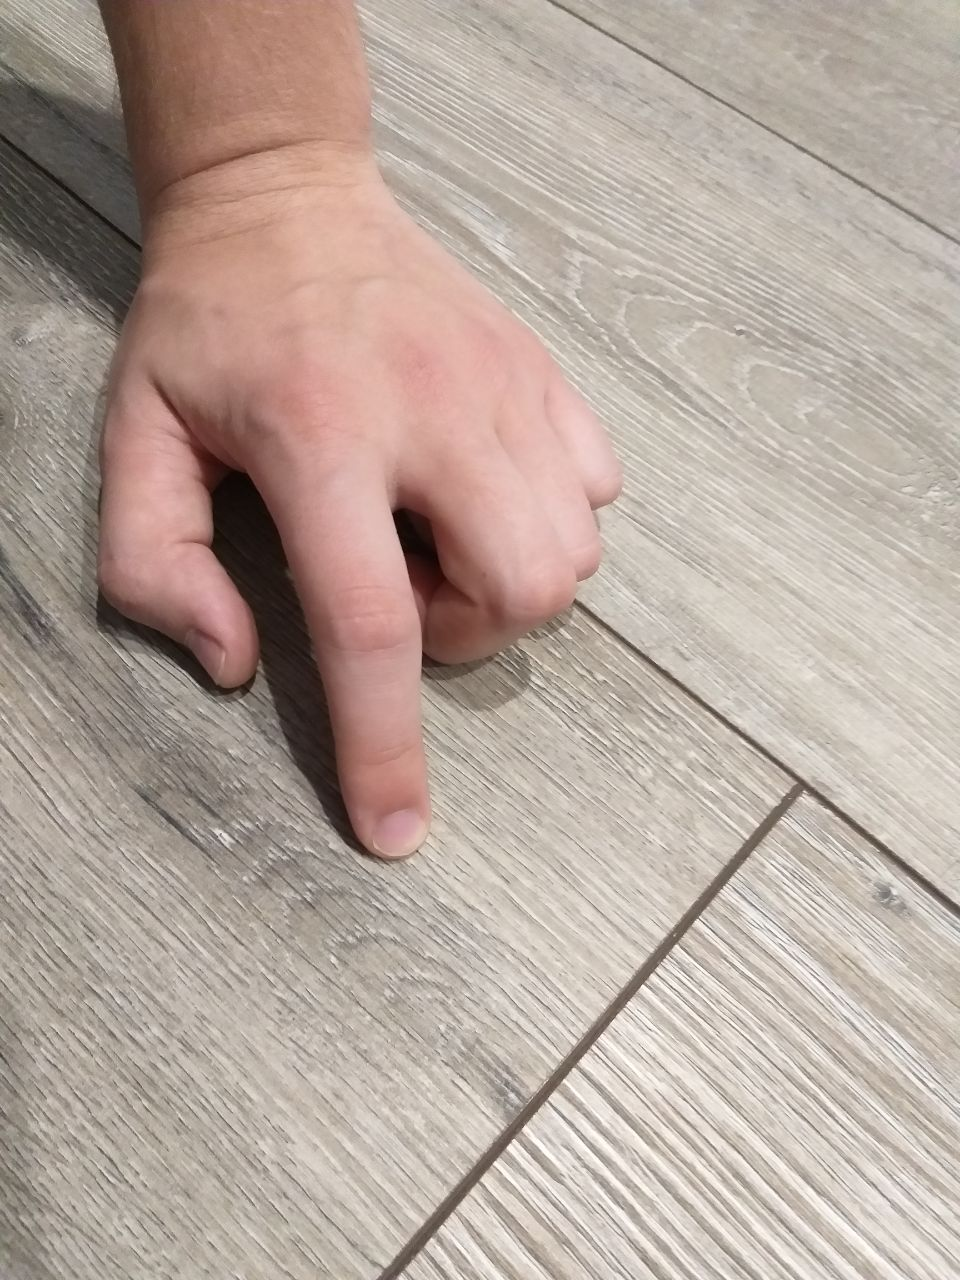finger: (343, 792, 434, 863)
